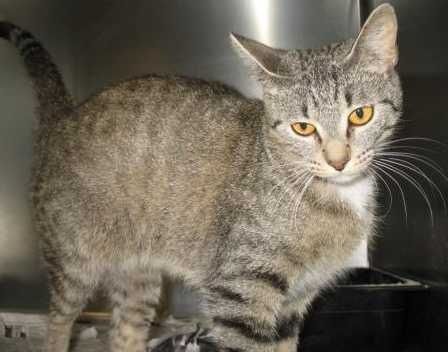Cat: (2, 26, 401, 351), (212, 3, 426, 326)
